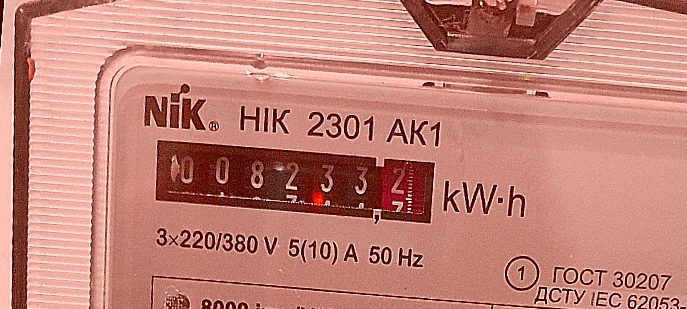0: (174, 152, 197, 186), (211, 154, 231, 186)
2: (279, 159, 302, 193), (388, 164, 407, 196)
3: (316, 161, 336, 194), (351, 163, 370, 196)
8: (246, 157, 266, 190)
screen: (141, 128, 447, 233)
